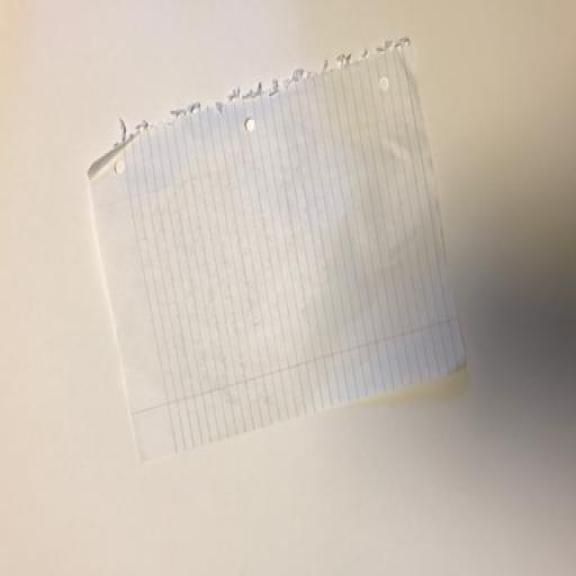Kertas: (86, 31, 469, 472)
